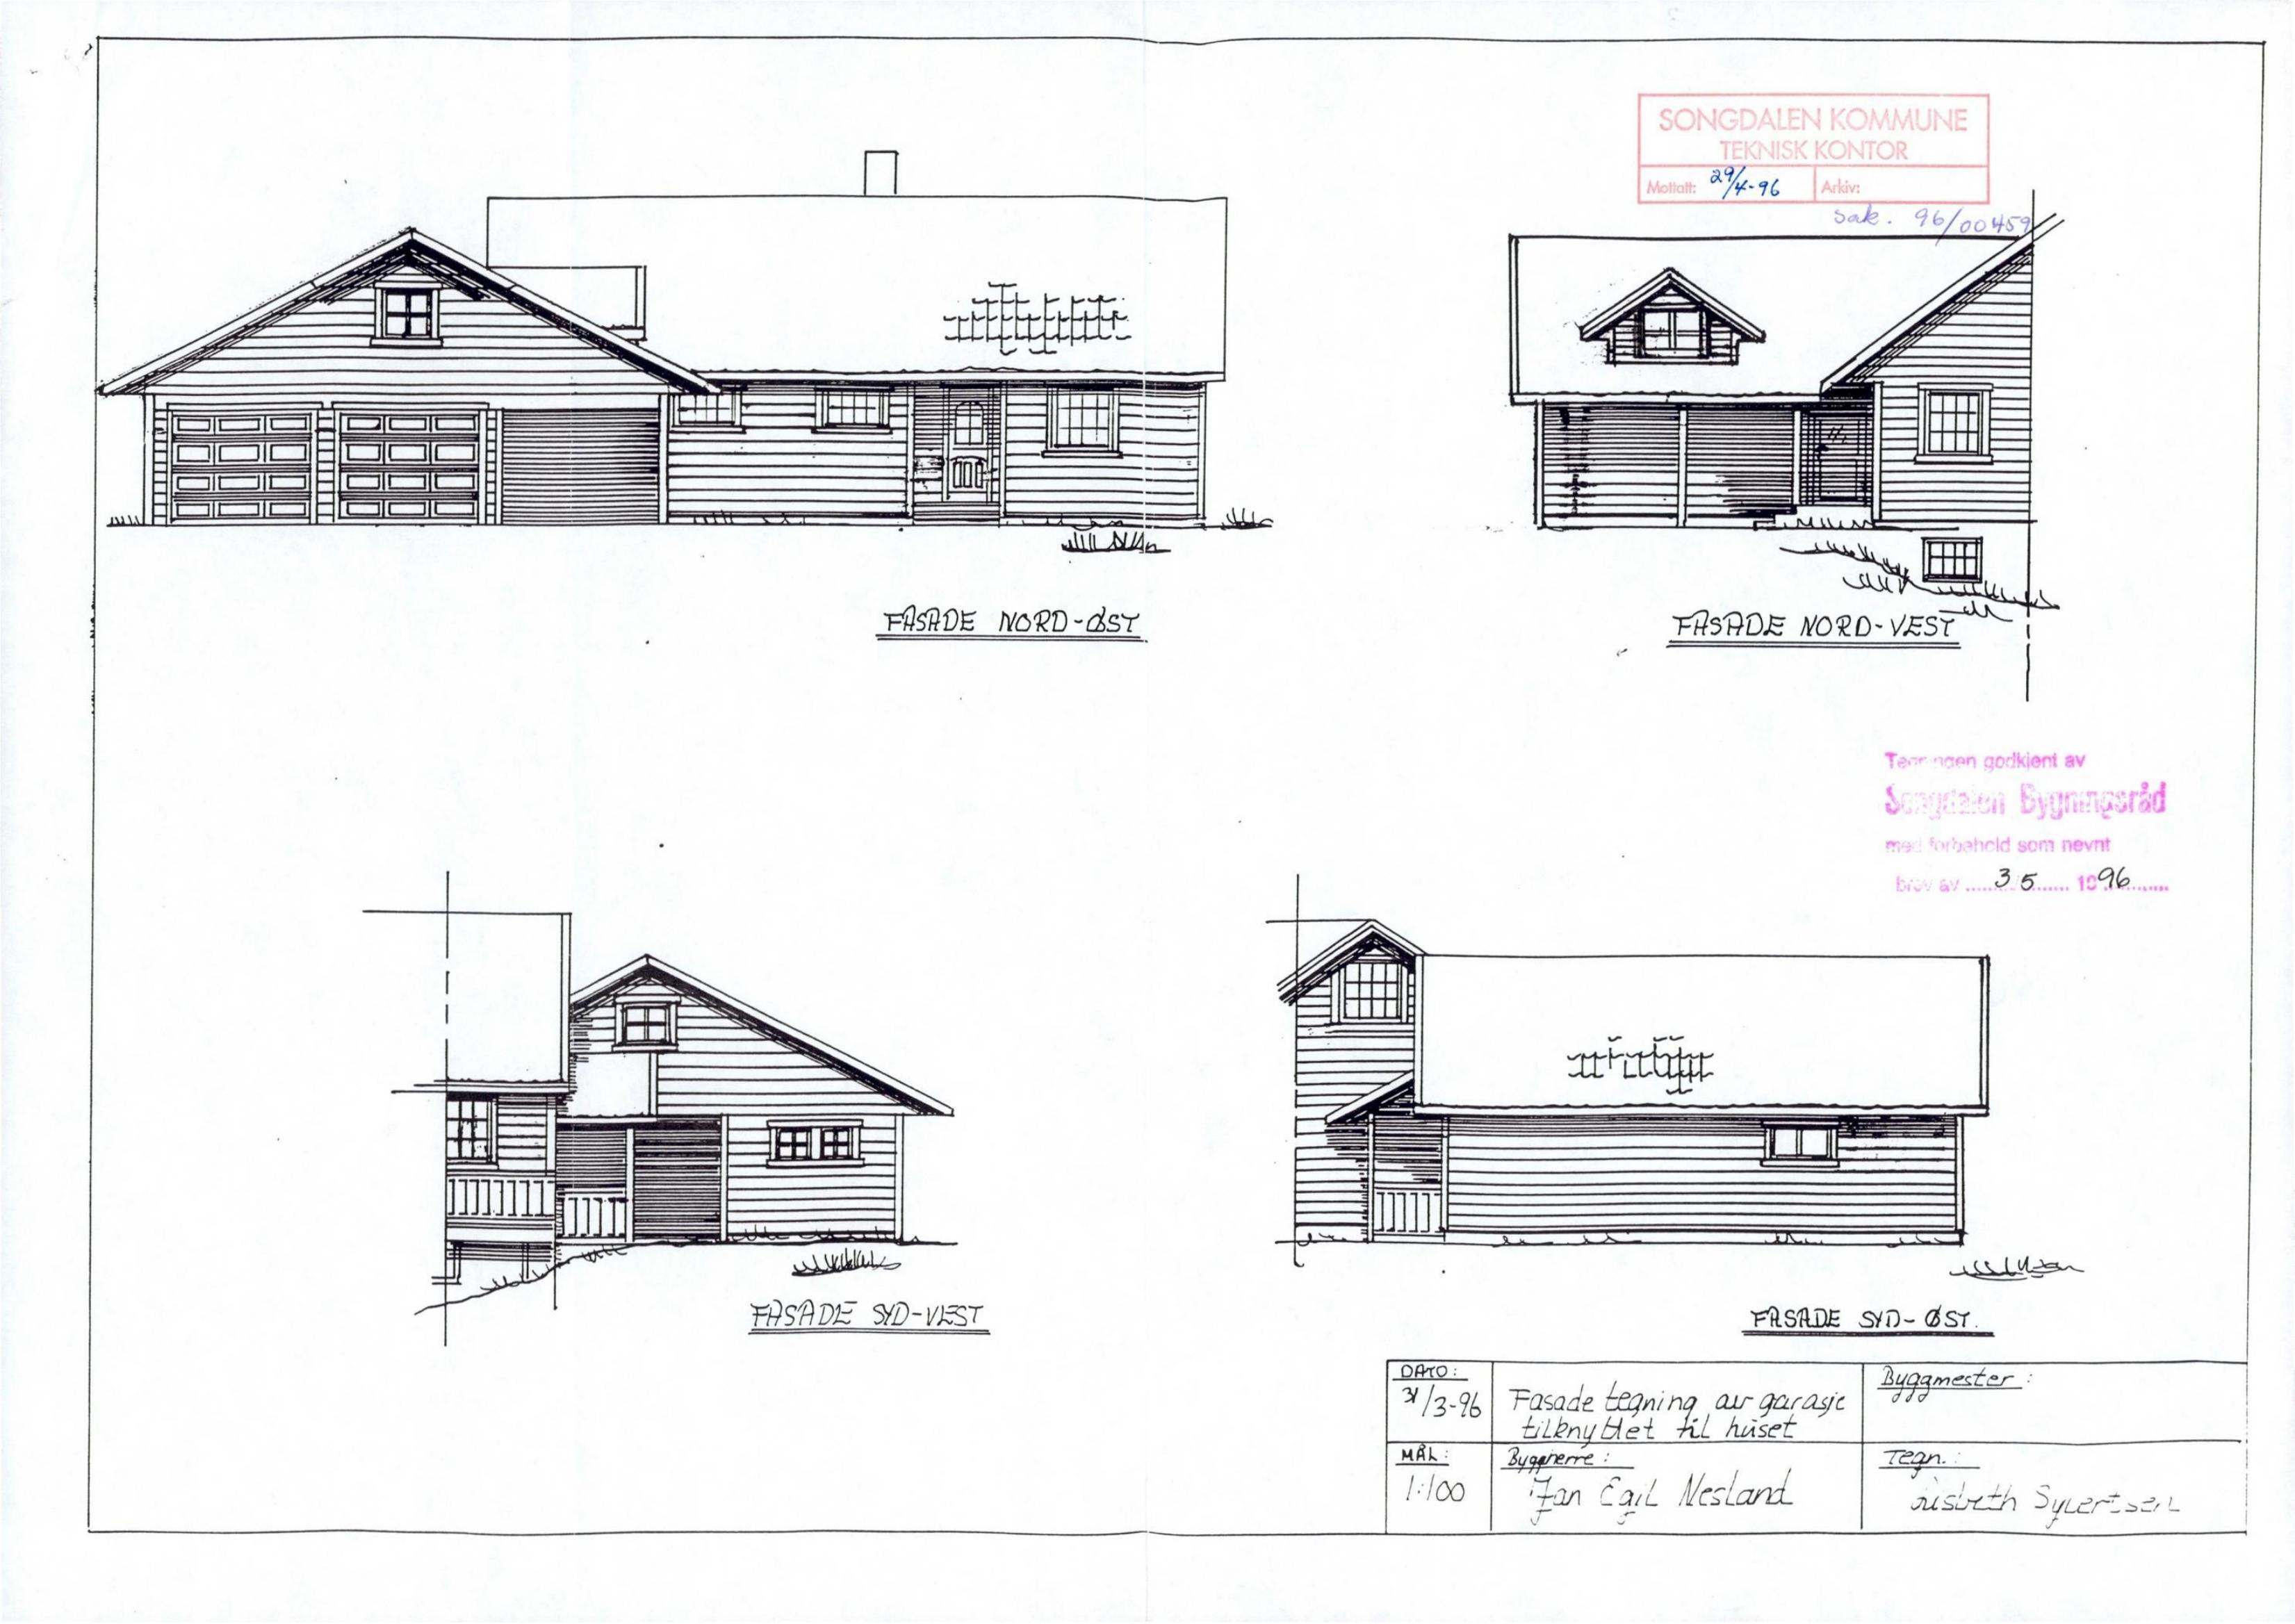fasade: (136, 147, 1270, 572), (1245, 852, 1998, 1283), (368, 877, 965, 1298), (1480, 202, 2057, 597)
